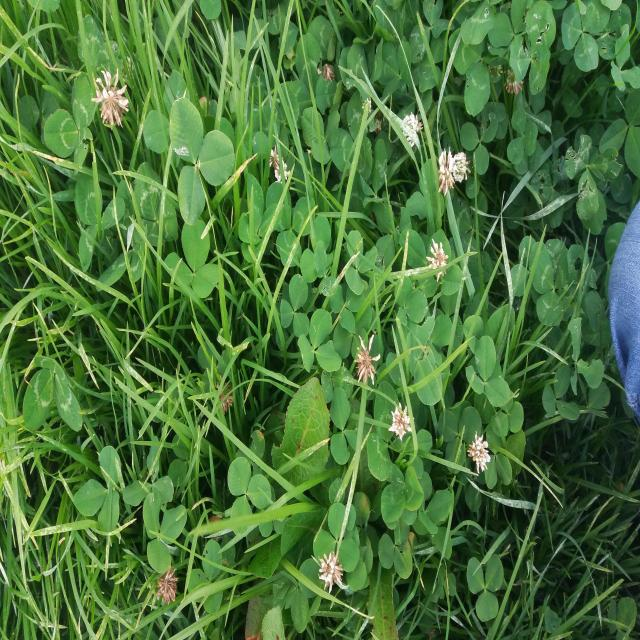Four Leaf Clover: (238, 174, 281, 261), (252, 332, 290, 388), (276, 271, 307, 318), (312, 258, 342, 305)
